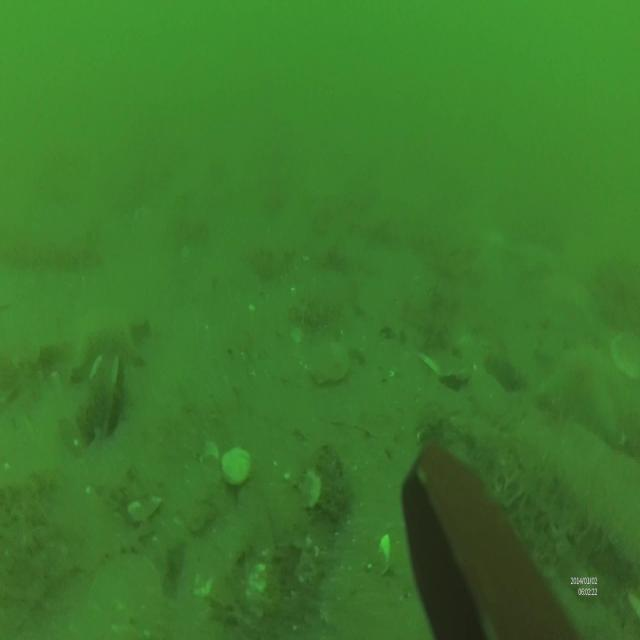scallop: (222, 448, 251, 486)
